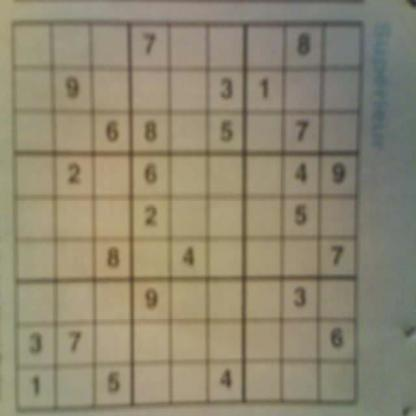sudoku: (7, 14, 369, 415)
